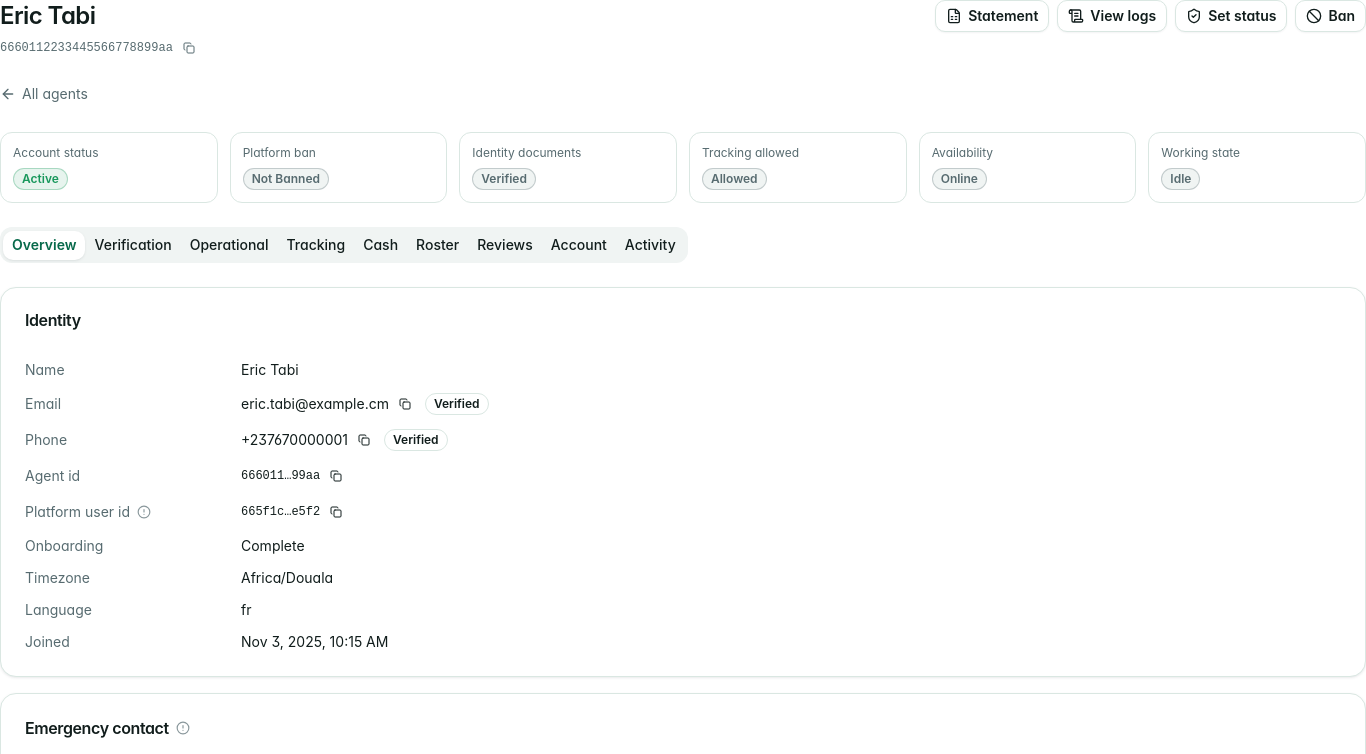
Test: the cash pool › shows the pool, what is allocated and the headroom without recomputing them
The image size is (1366, 754).
Click the tab "Cash" at (381, 245), box [354,230,407,260]
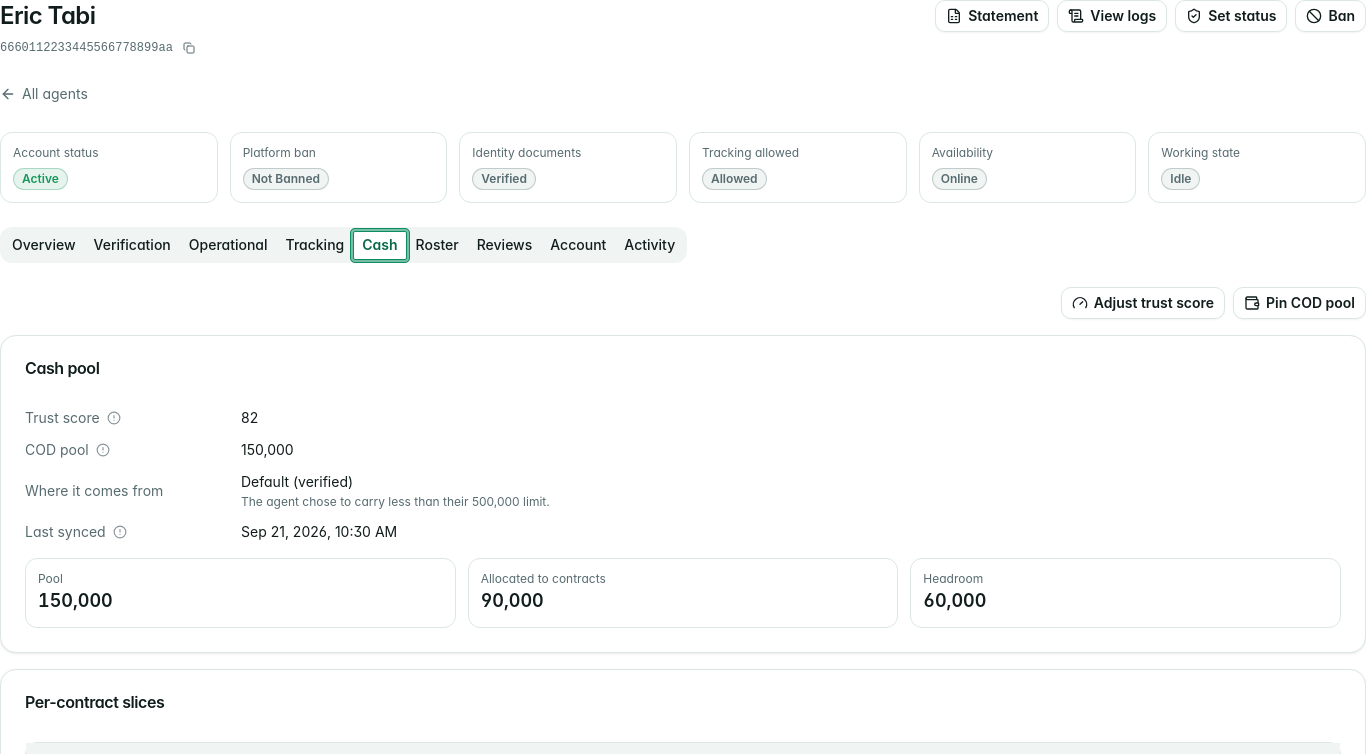
Check: the text "Headroom" is shown, box [923,571,983,586]
Check: the text "60,000" is shown, box [923,590,986,611]
